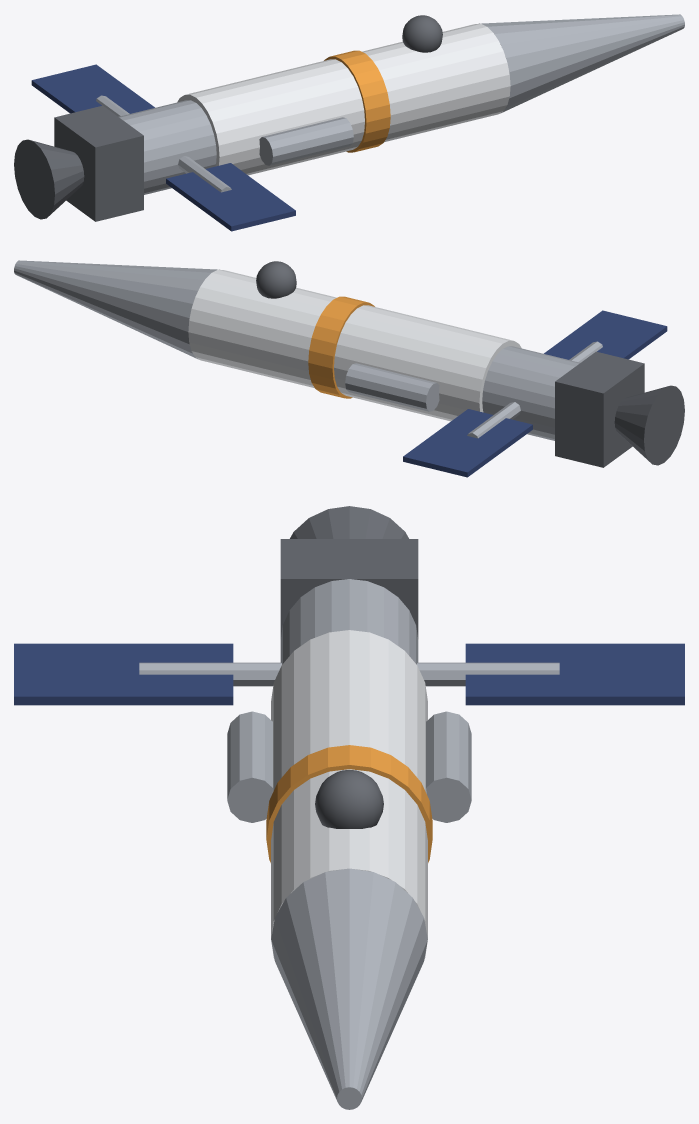
The model's file is soyokaze.glb.
3 views of the same model, one above another, from view 1: azimuth 30°, elevation 25°; view 2: azimuth 150°, elevation 25°; view 3: azimuth 270°, elevation 25° (orthographic). The views are drawn at different scales.
Parts seen in each view (by area): view 1: soyokaze_mid_hull, soyokaze_fwd_hull, soyokaze_nose, soyokaze_engine, soyokaze_aft_hull, soyokaze_solar_1, soyokaze_nozzle, soyokaze_solar_0, soyokaze_pod_1, soyokaze_collar, soyokaze_sensor_dome, soyokaze_solar_spar_1; view 2: soyokaze_mid_hull, soyokaze_fwd_hull, soyokaze_nose, soyokaze_engine, soyokaze_aft_hull, soyokaze_solar_0, soyokaze_nozzle, soyokaze_solar_1, soyokaze_pod_0, soyokaze_collar, soyokaze_sensor_dome, soyokaze_solar_spar_0; view 3: soyokaze_nose, soyokaze_mid_hull, soyokaze_solar_0, soyokaze_solar_1, soyokaze_fwd_hull, soyokaze_engine, soyokaze_aft_hull, soyokaze_collar, soyokaze_pod_0, soyokaze_pod_1, soyokaze_sensor_dome, soyokaze_nozzle (+2 smaller).
Part boxes in pixels (x1=…): soyokaze_mid_hull: x1=177, y1=59, x2=364, y2=175; soyokaze_fwd_hull: x1=362, y1=23, x2=510, y2=142; soyokaze_nose: x1=479, y1=14, x2=684, y2=113; soyokaze_engine: x1=54, y1=105, x2=143, y2=221; soyokaze_aft_hull: x1=118, y1=100, x2=216, y2=194; soyokaze_solar_1: x1=166, y1=163, x2=295, y2=231; soyokaze_nozzle: x1=14, y1=139, x2=84, y2=219; soyokaze_solar_0: x1=31, y1=64, x2=154, y2=113; soyokaze_pod_1: x1=259, y1=117, x2=353, y2=165; soyokaze_collar: x1=324, y1=50, x2=390, y2=152; soyokaze_sensor_dome: x1=402, y1=15, x2=442, y2=52; soyokaze_solar_spar_1: x1=178, y1=156, x2=231, y2=192; soyokaze_mid_hull: x1=334, y1=305, x2=521, y2=421; soyokaze_fwd_hull: x1=188, y1=269, x2=336, y2=388; soyokaze_nose: x1=14, y1=260, x2=219, y2=359; soyokaze_engine: x1=555, y1=351, x2=644, y2=467; soyokaze_aft_hull: x1=482, y1=346, x2=580, y2=440; soyokaze_solar_0: x1=403, y1=409, x2=532, y2=477; soyokaze_nozzle: x1=614, y1=385, x2=684, y2=465; soyokaze_solar_1: x1=544, y1=310, x2=667, y2=359; soyokaze_pod_0: x1=345, y1=363, x2=439, y2=411; soyokaze_collar: x1=308, y1=296, x2=374, y2=398; soyokaze_sensor_dome: x1=256, y1=261, x2=296, y2=298; soyokaze_solar_spar_0: x1=467, y1=402, x2=520, y2=438; soyokaze_nose: x1=271, y1=868, x2=427, y2=1109; soyokaze_mid_hull: x1=271, y1=630, x2=427, y2=793; soyokaze_solar_0: x1=465, y1=643, x2=684, y2=705; soyokaze_solar_1: x1=14, y1=643, x2=233, y2=705; soyokaze_fwd_hull: x1=271, y1=769, x2=427, y2=959; soyokaze_engine: x1=280, y1=539, x2=418, y2=638; soyokaze_aft_hull: x1=280, y1=579, x2=418, y2=664; soyokaze_collar: x1=266, y1=745, x2=432, y2=862; soyokaze_pod_0: x1=426, y1=711, x2=471, y2=822; soyokaze_pod_1: x1=227, y1=711, x2=272, y2=822; soyokaze_sensor_dome: x1=315, y1=770, x2=383, y2=828; soyokaze_nozzle: x1=290, y1=506, x2=408, y2=538.
Bounding box in the file's own units: 40 × 6.65 × 21.4.
